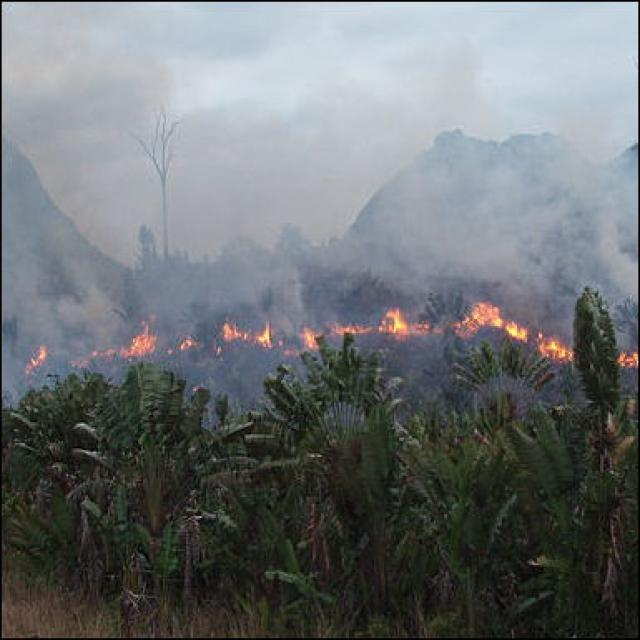fire: (456, 302, 571, 362), (126, 328, 158, 362)
smoke: (23, 92, 630, 296)
